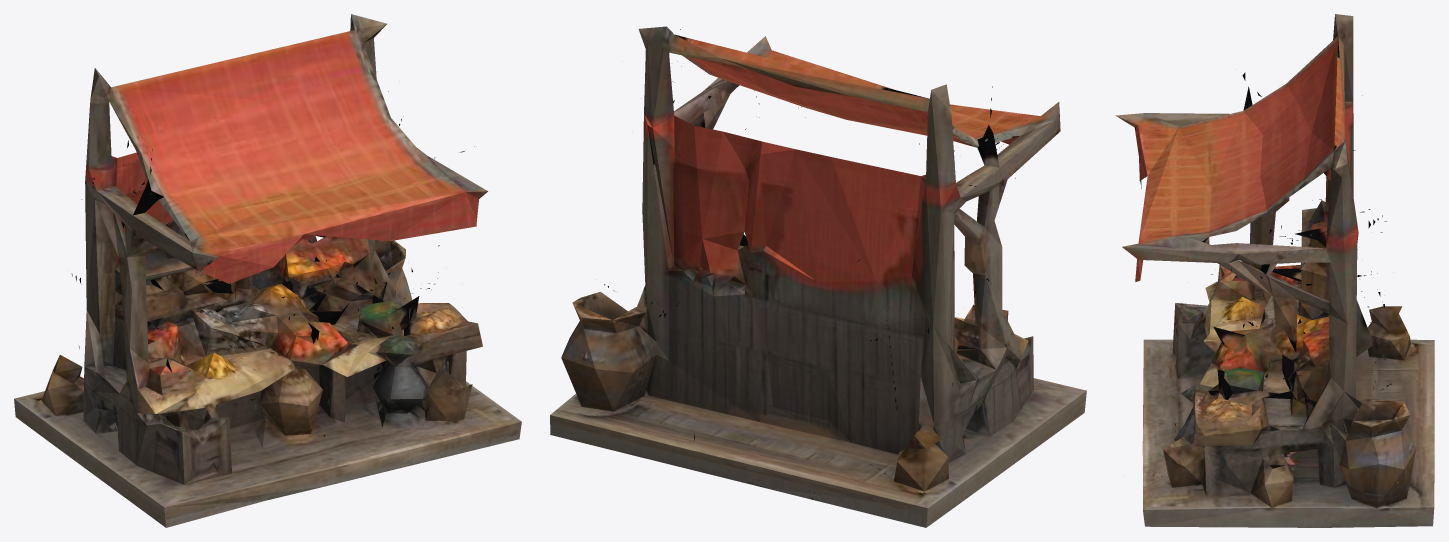
The model's file is stall_red_awning_goods_lod0.glb.
3 views of the same model, side by side, from view 1: azimuth 30°, elevation 25°; view 2: azimuth 150°, elevation 25°; view 3: azimuth 270°, elevation 25° (orthographic). The views are drawn at different scales.
Visible parts, largest first — view 1: stall_red_awning_goods_lod0; view 2: stall_red_awning_goods_lod0; view 3: stall_red_awning_goods_lod0.
Boxes of the visible parts, x1,y1,x2,y2 form: stall_red_awning_goods_lod0: [14, 14, 521, 527]; stall_red_awning_goods_lod0: [550, 26, 1086, 527]; stall_red_awning_goods_lod0: [1116, 14, 1434, 527].
Size of the model in its own units: 4.04 by 3.97 by 3.15.
1 material, 1 textured.
